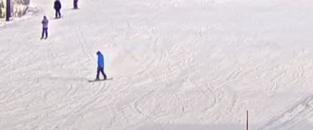skier: (38, 15, 50, 41)
snowboarder: (87, 50, 113, 82)
